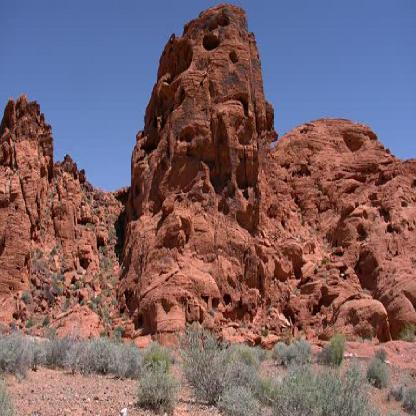other: (154, 181, 308, 330)
